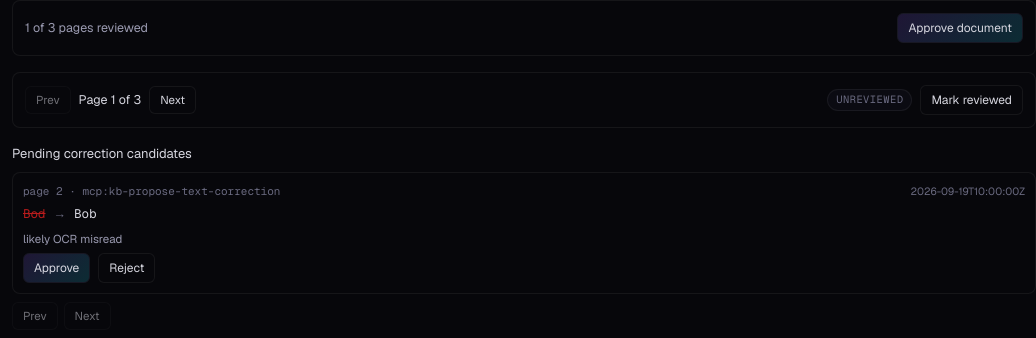
it: ReviewTab › advances to page 2 when Next is clicked, actually re-requesting that page
The width and height of the screenshot is (1036, 338).
Step 1. Click the button with test id "kb-review-page-next" → point(173, 100), box [149,86,196,114]
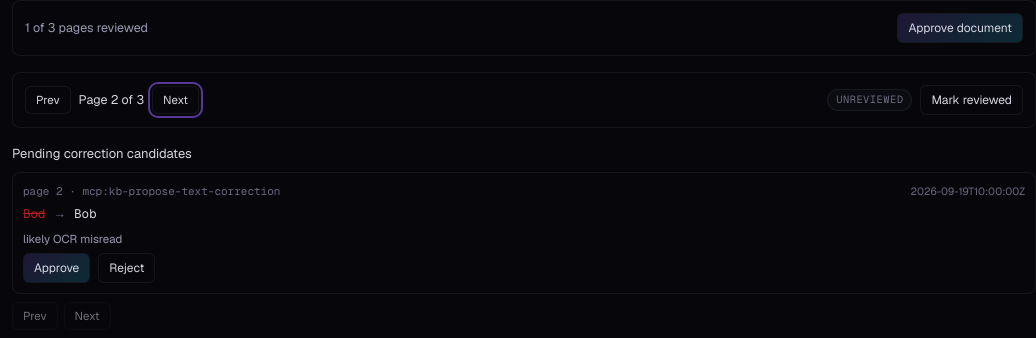
Result: the text with test id "kb-review-page-number" reads "Page 2 of 3" at [79,91,144,109]
